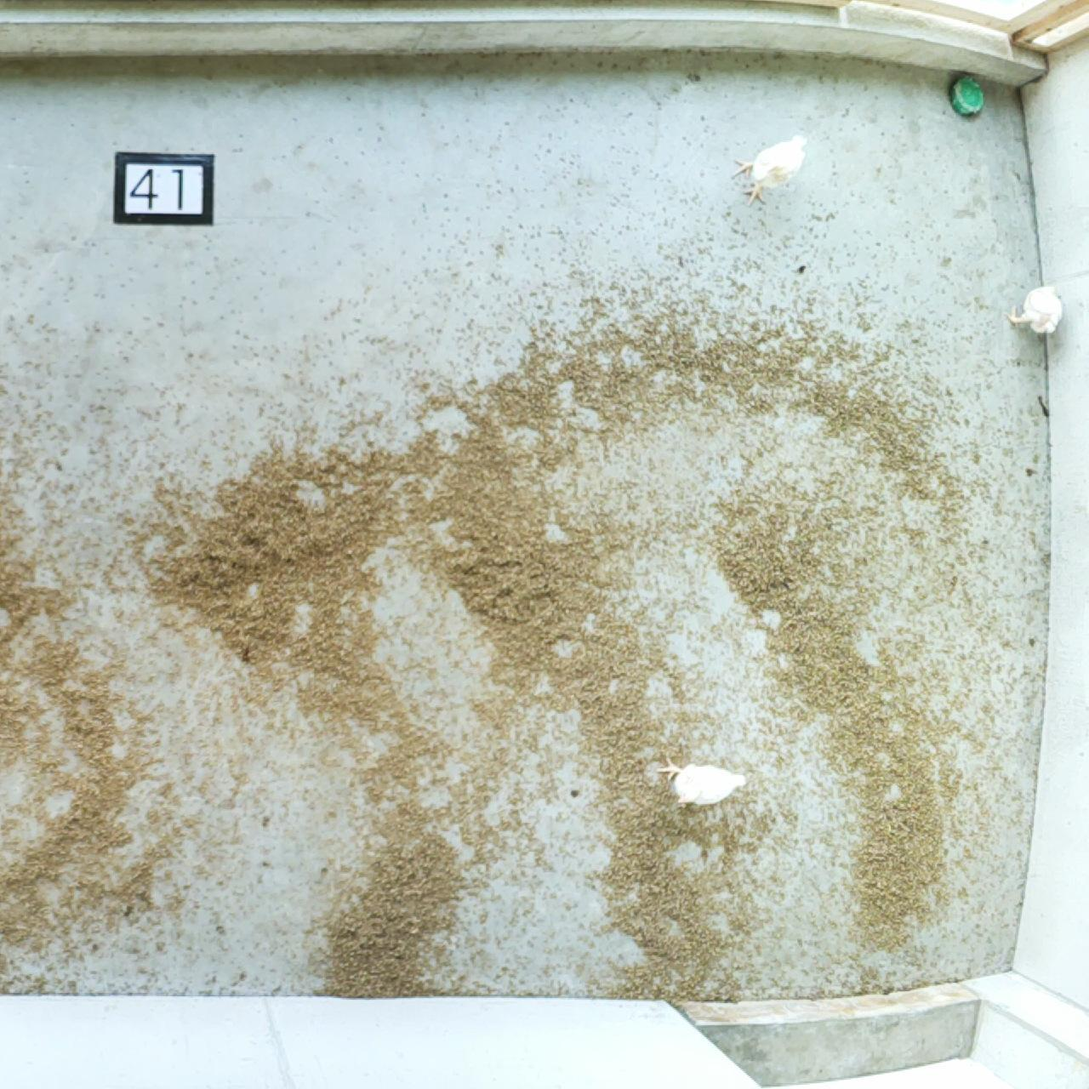chicken: (736, 136, 806, 206), (660, 753, 745, 808), (1009, 283, 1061, 337)
